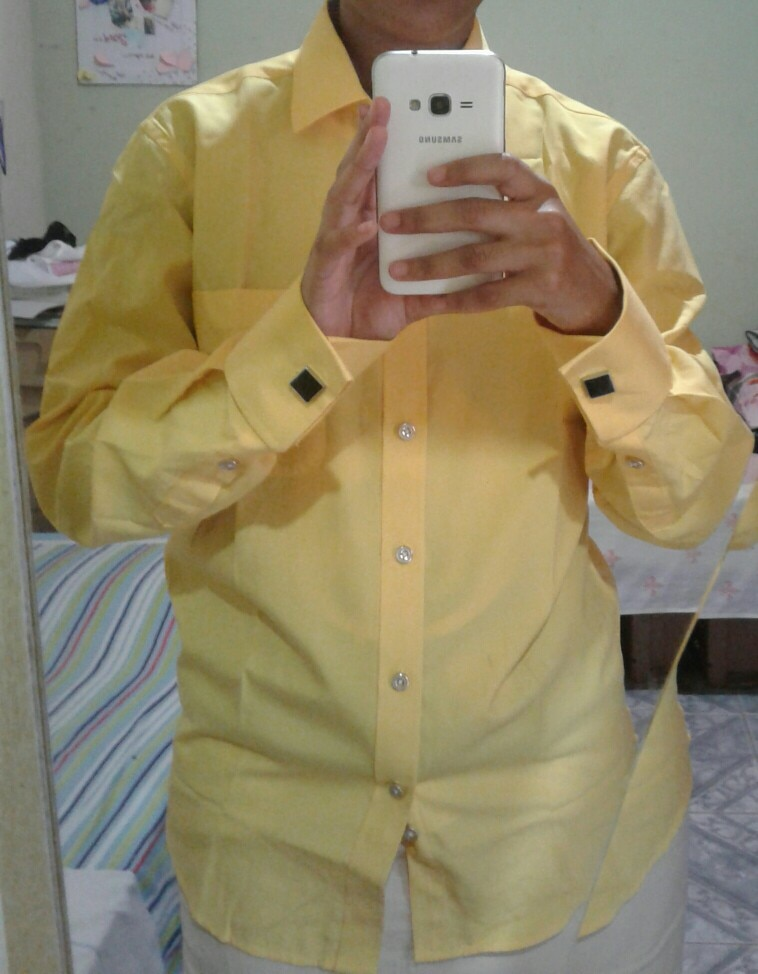shirts: (63, 40, 751, 949)
